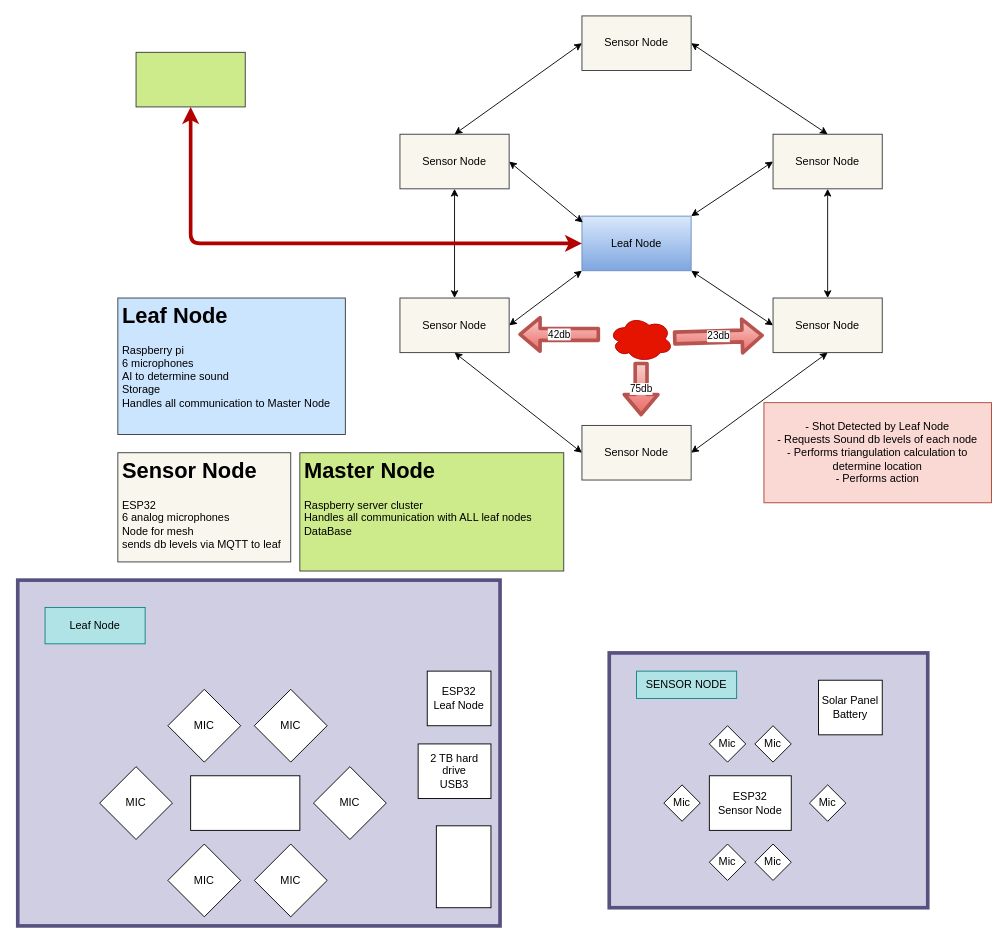
Some shapes in this 1007 by 944 pixel diagram are drawn without their labels. The shapes that lost their labels are listed below. From the top down, each one's centre as x and y in pixels, then its label:
point 190,79: Master Node
point 640,338: BANG
point 245,802: Raspberry pi4
point 463,866: LTE Backup
